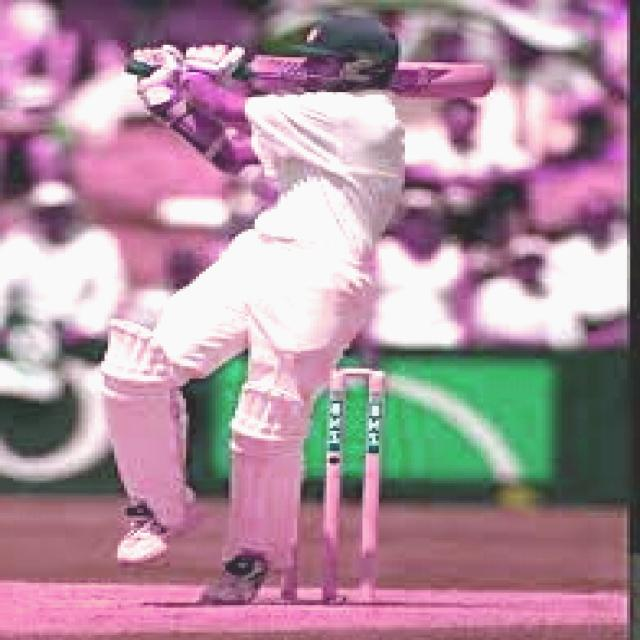toe: (481, 64, 503, 96)
